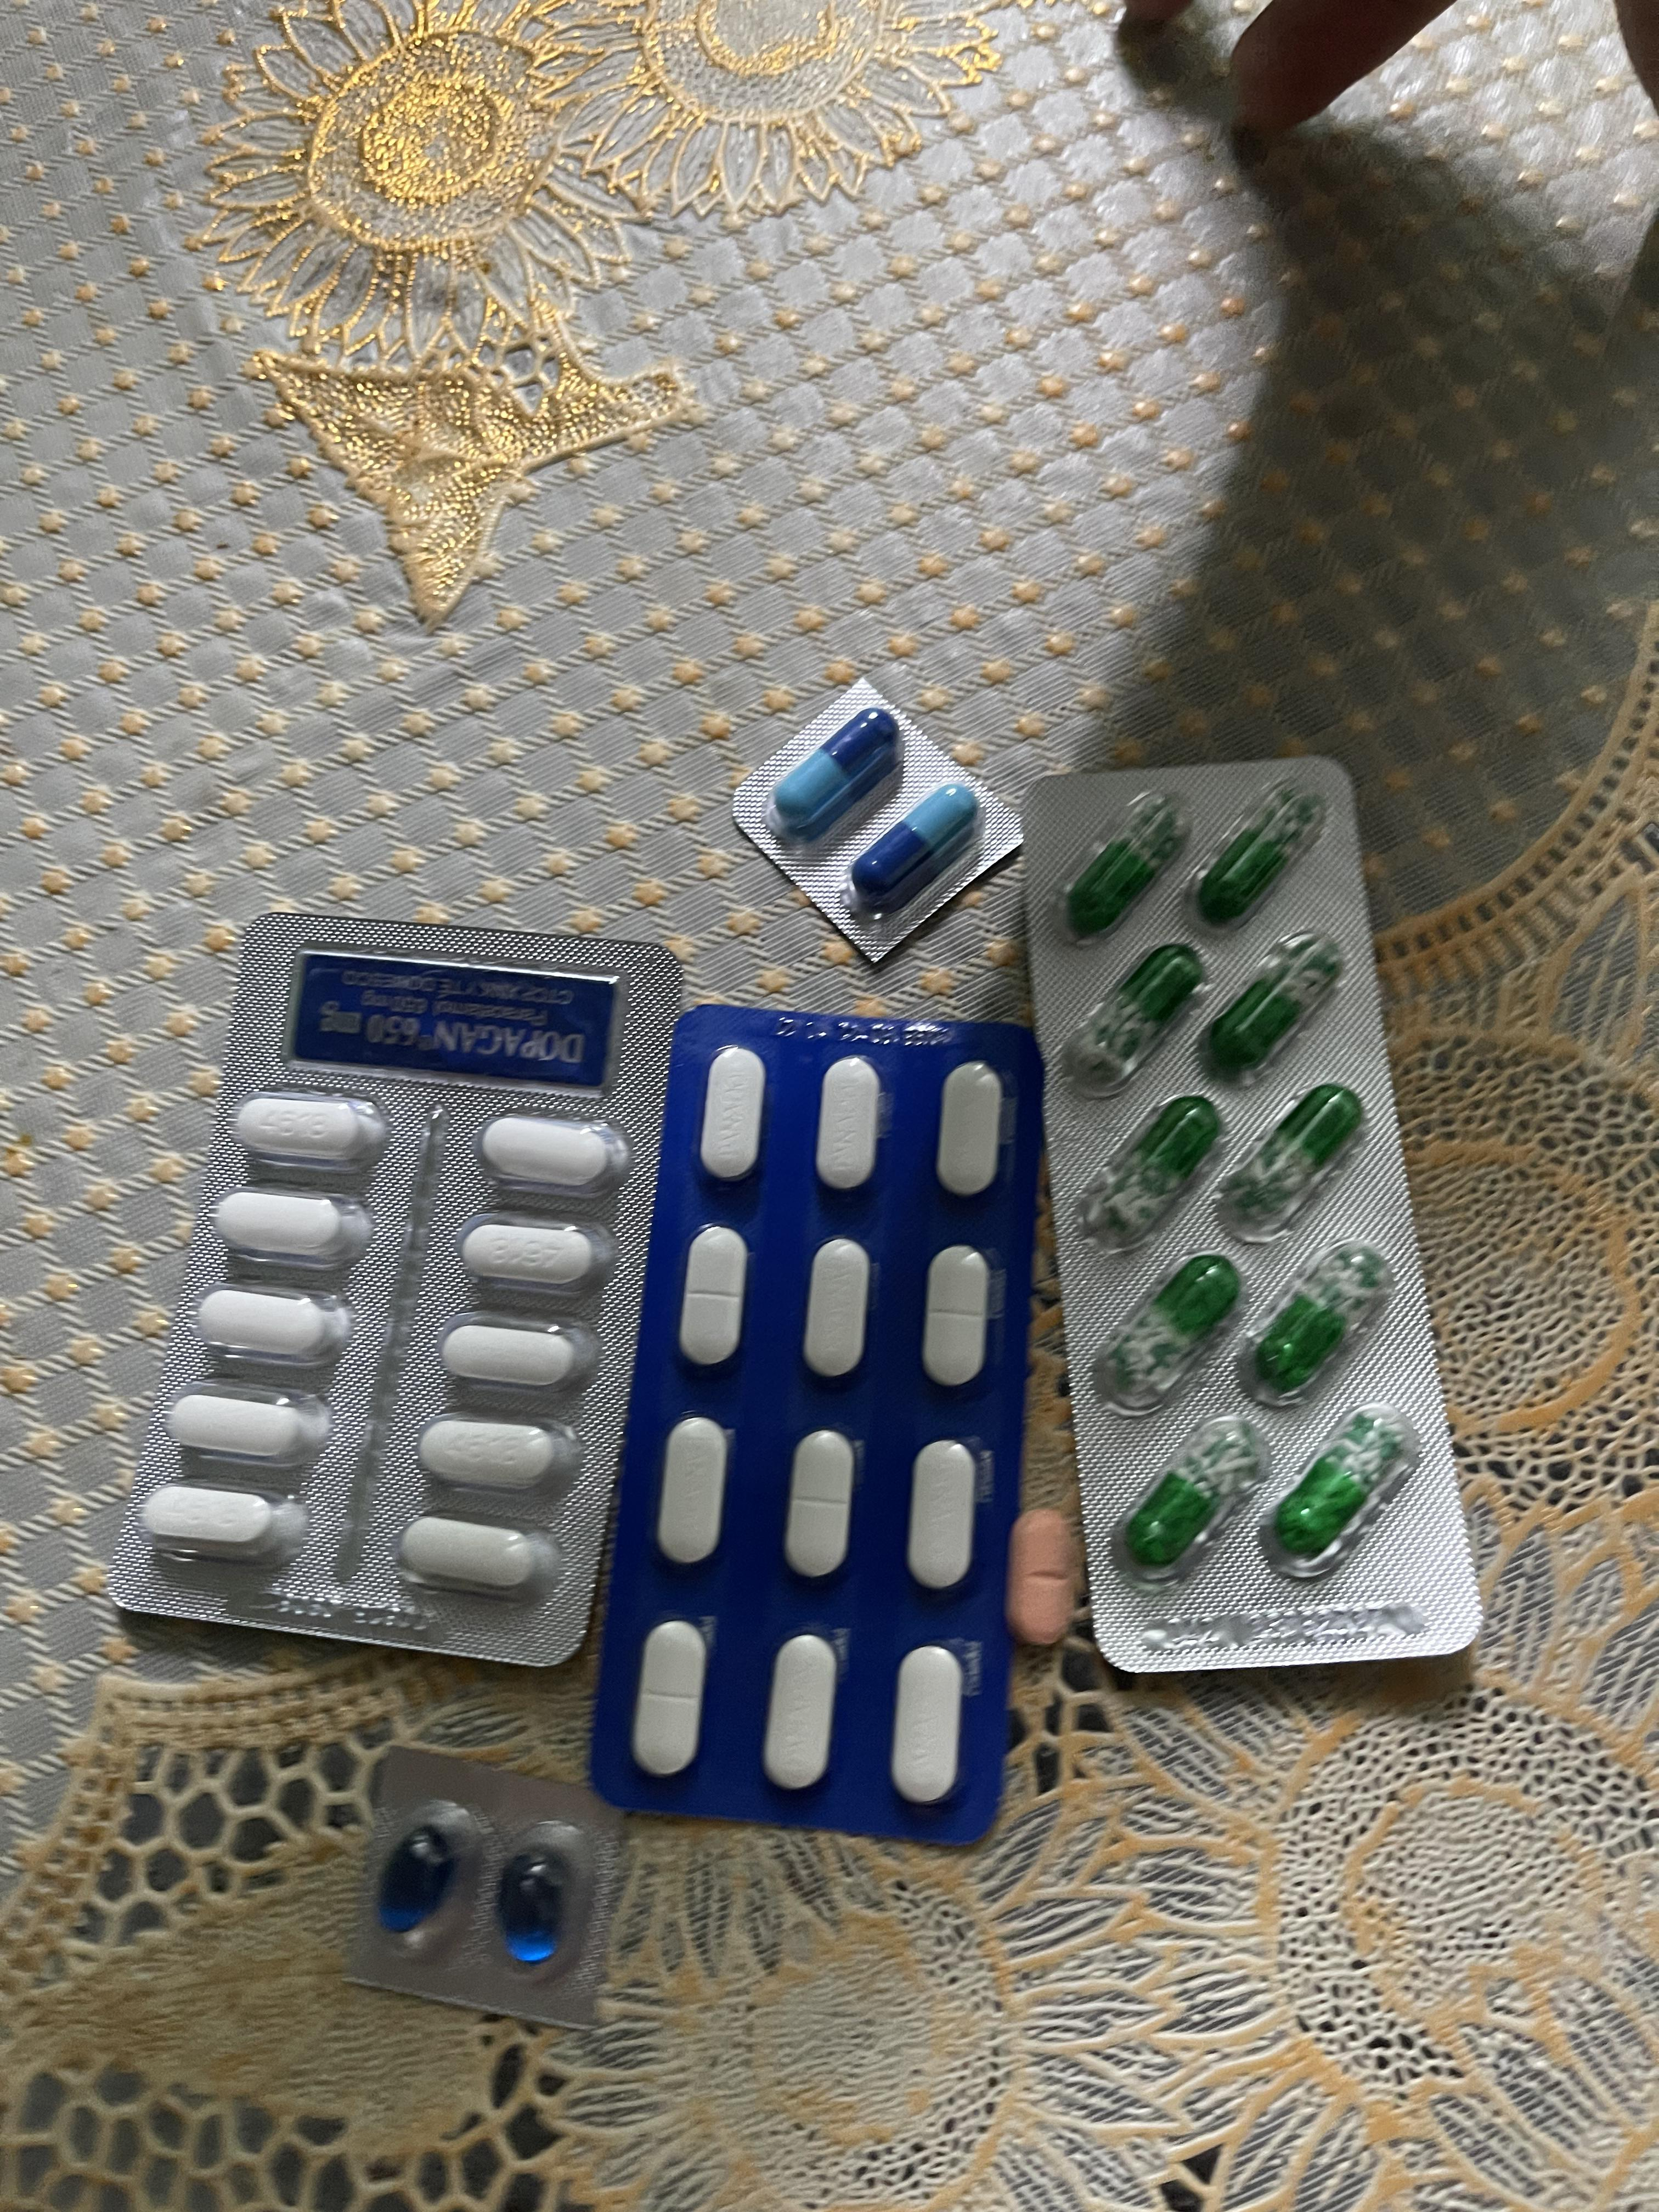Lincomyxin_500mg: (378, 1822, 458, 1935), (498, 1851, 566, 1965)
Loratadine_10mg: (1009, 1508, 1075, 1641)
Paracetamol_350mg: (631, 1620, 708, 1777), (762, 1635, 838, 1792), (890, 1644, 964, 1806), (655, 1418, 730, 1566), (908, 1440, 979, 1590), (784, 1430, 856, 1578), (920, 1249, 993, 1388), (678, 1226, 748, 1366), (803, 1242, 871, 1381), (934, 1061, 1004, 1197), (699, 1045, 767, 1179), (814, 1057, 882, 1191)
Paracetamol_500mg: (397, 1515, 552, 1595), (476, 1115, 627, 1197), (162, 1390, 326, 1465), (193, 1287, 349, 1366), (234, 1092, 385, 1169), (213, 1190, 362, 1264), (458, 1219, 608, 1294), (416, 1418, 568, 1491), (139, 1482, 282, 1557), (441, 1324, 587, 1392)
Paracetamol_650mg: (1265, 1404, 1422, 1576), (1241, 1240, 1399, 1406), (1119, 1416, 1270, 1585), (1096, 1247, 1244, 1411), (1220, 1082, 1370, 1233), (1082, 1092, 1223, 1245), (1185, 784, 1326, 932), (1201, 935, 1344, 1078), (1070, 942, 1206, 1083), (1061, 789, 1187, 941)
pill: (770, 705, 906, 843), (847, 780, 986, 914)
